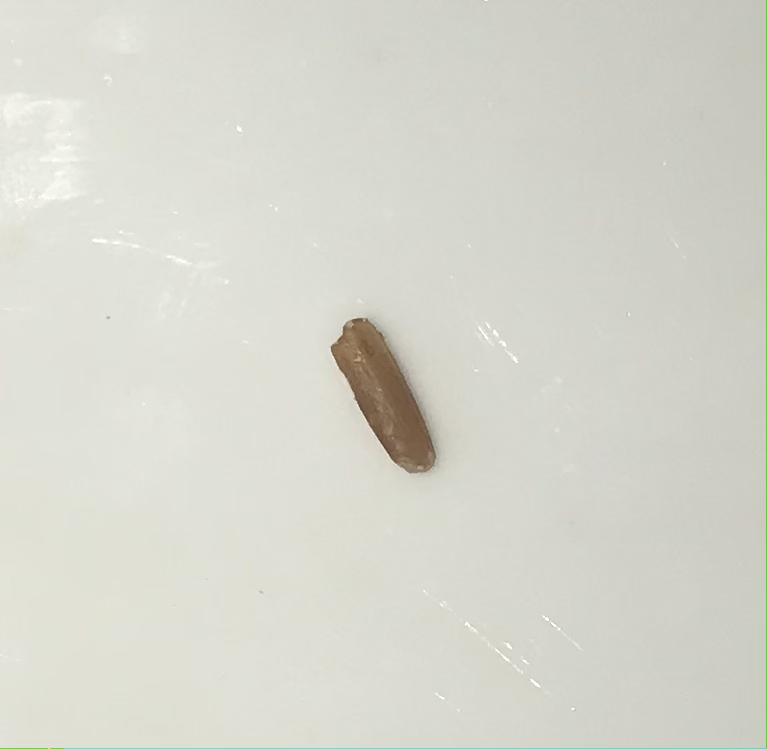Gao Lut Do: (322, 317, 455, 482)
